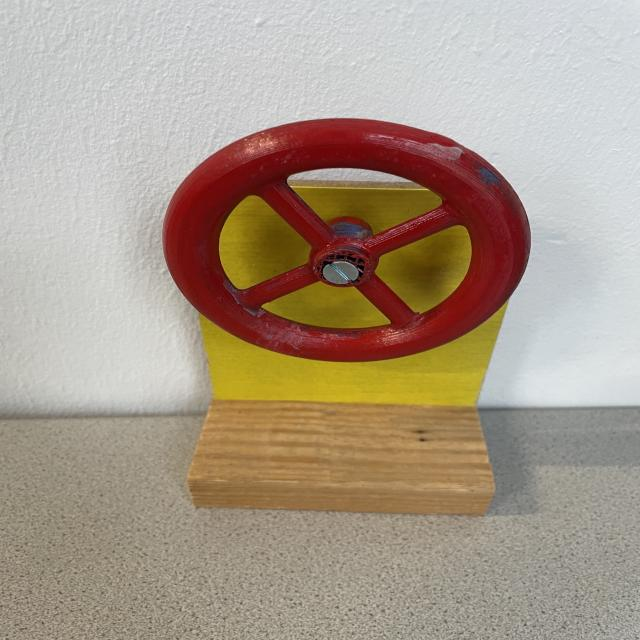Wheel Handle Valve Threaded: (160, 114, 532, 361)
